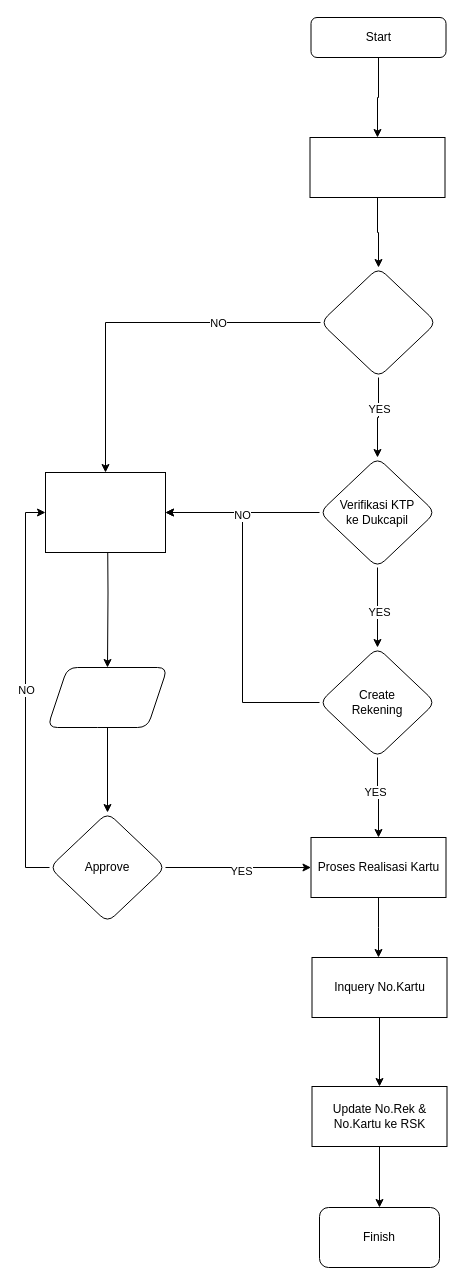
The diagram is 464 pixels wide and 1285 high, and some of its shapes have lost their labels. Each missing label, with the box of its shape:
Cek DHN & Teroris: (320, 266, 436, 378)
Registrasi Permohonan: (309, 136, 445, 198)
Supervisi: (46, 666, 168, 728)
Verifikasi Manual oleh CS: (44, 472, 166, 552)
